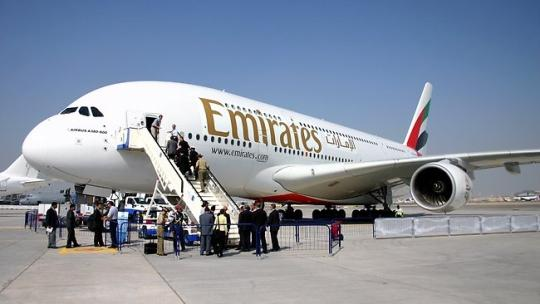airplane: (14, 73, 540, 208)
